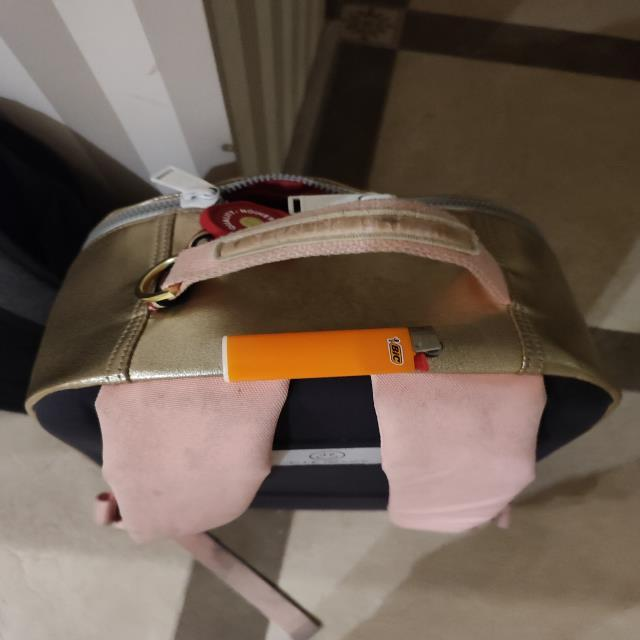lighter: (223, 326, 446, 381)
